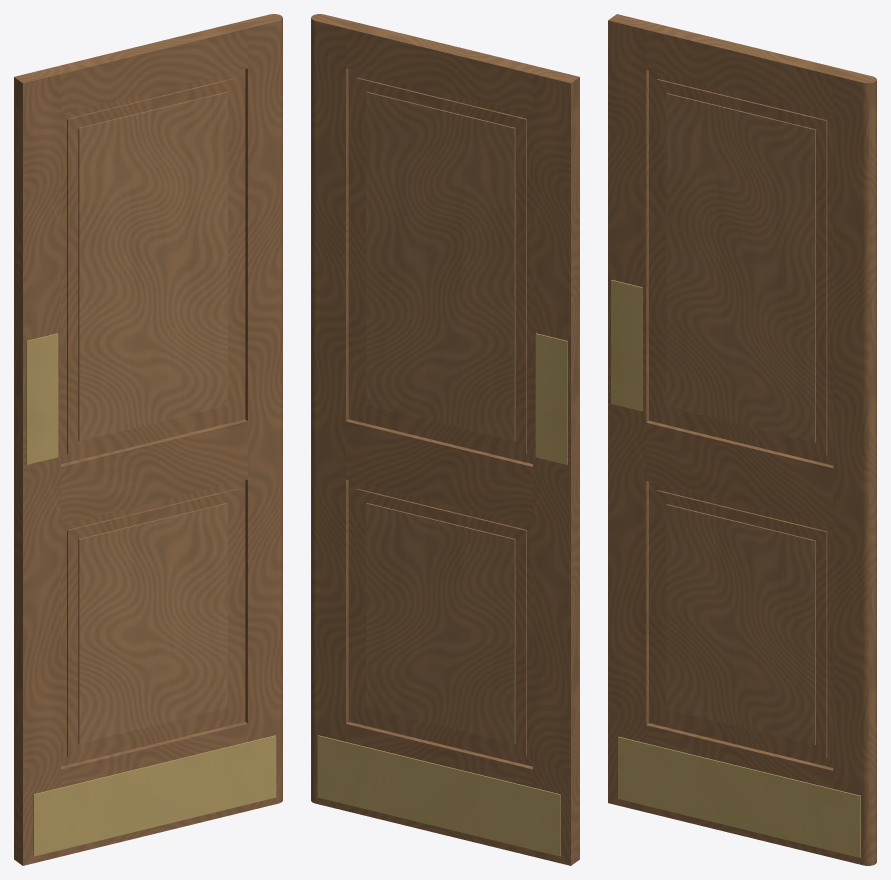
File: swing_door_right.glb
The picture shows the model from 3 angles, left to right: view 1: azimuth 30°, elevation 25°; view 2: azimuth 150°, elevation 25°; view 3: azimuth 330°, elevation 25°; orthographic projection.
Parts seen in each view (by area): view 1: swing_door_right; view 2: swing_door_right; view 3: swing_door_right.
Part boxes in pixels (x1,y1,x2,y2): swing_door_right: (14, 14, 282, 865); swing_door_right: (311, 14, 579, 865); swing_door_right: (608, 14, 876, 865).
Size of the model in its own units: 0.758 by 2.15 by 0.05.
Materials: 3 (3 with a texture image).
